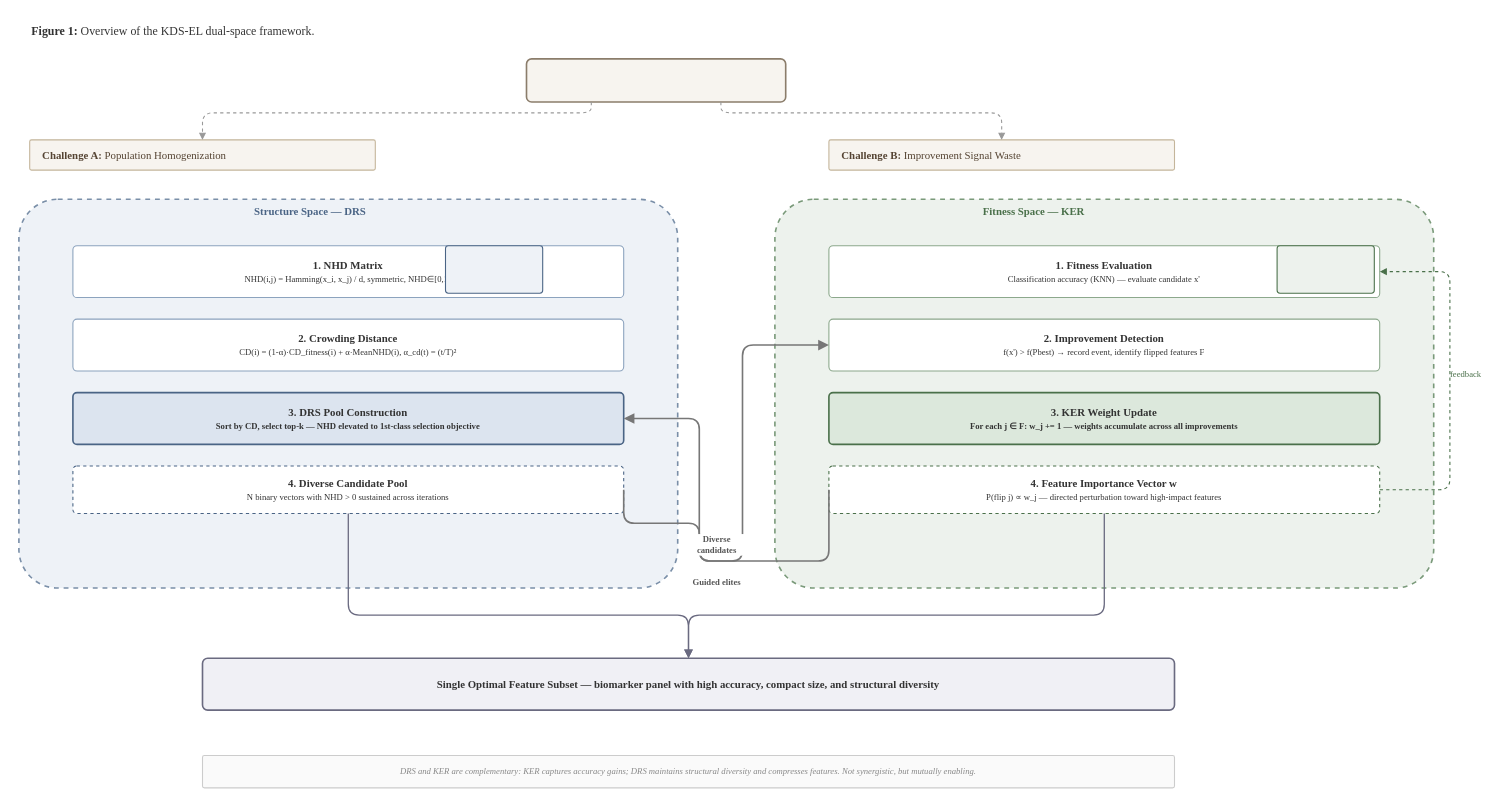
Some shapes in this 1507 by 807 pixel diagram are drawn without their labels. Here are the shapes that lost their labels. From the top down, the box of each, then its label:
(525, 58, 786, 102): High-Dimensional Data (d >> n)
(444, 245, 543, 293): Prop. 1 E[NHD(pool)] > 0 diversity lower bound
(1276, 245, 1374, 293): Prop. 2 P(flip j) ≥ (1/N)(w_j/Σw)·p_mut any subset reachable
